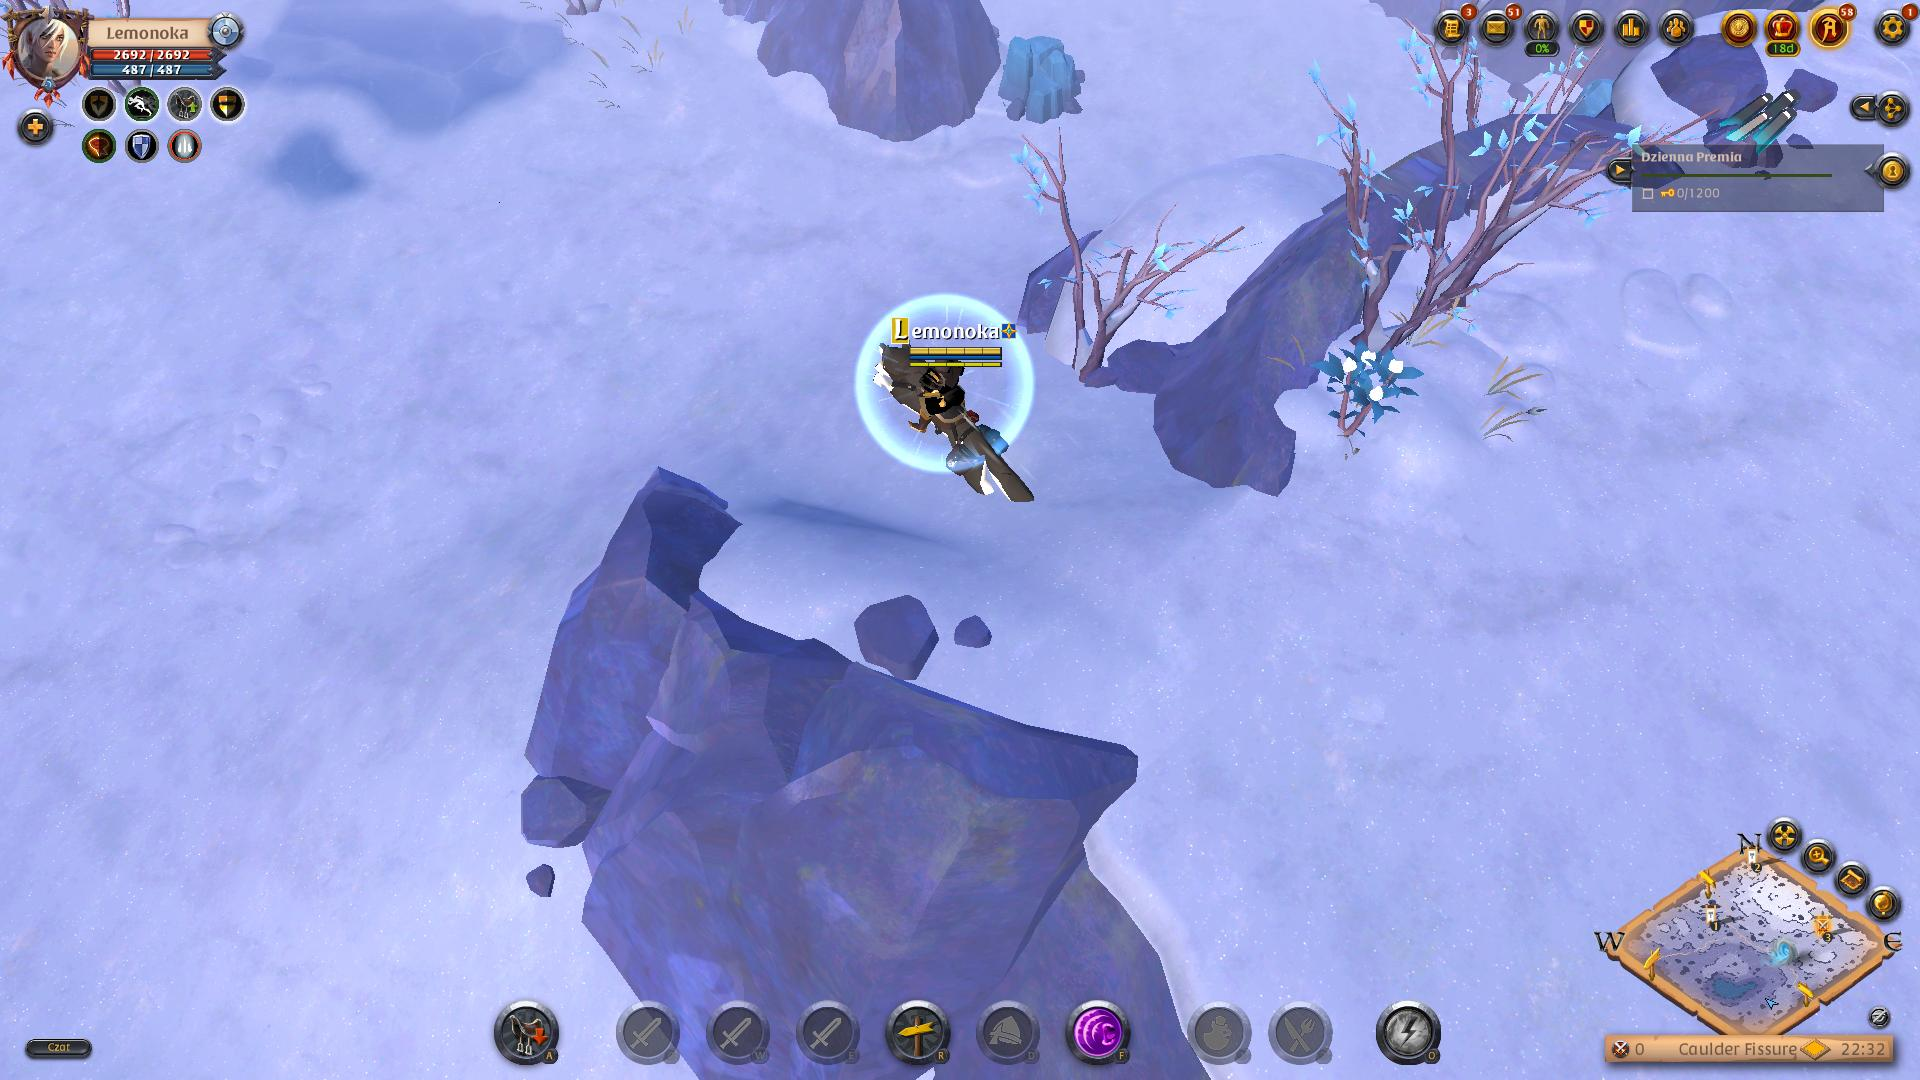fiber tier 4: (1308, 336, 1423, 448)
rock tier 4: (996, 26, 1091, 127)
